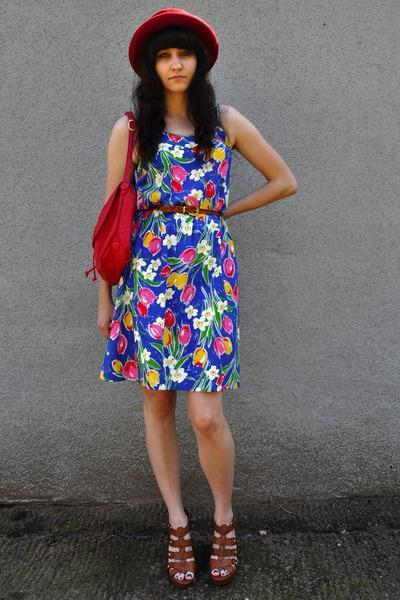bag: (90, 108, 145, 298)
dress: (101, 112, 239, 405)
hat: (129, 13, 215, 72)
shoe: (168, 524, 236, 563)
